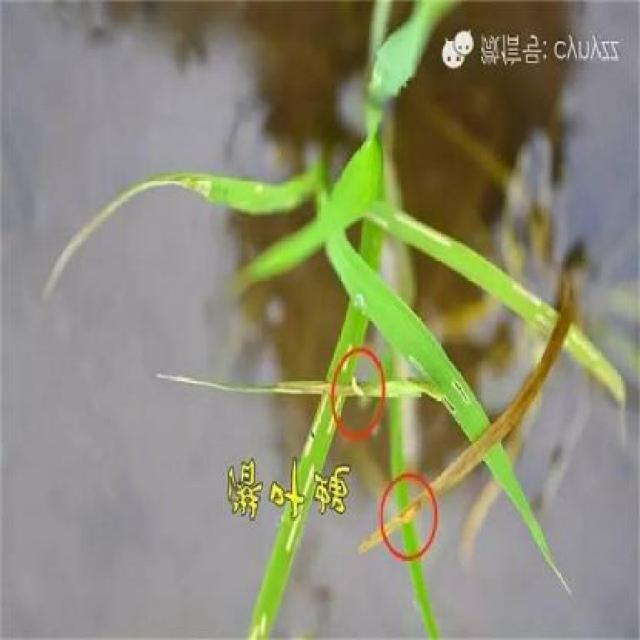whorl-maggot: (350, 369, 364, 402)
